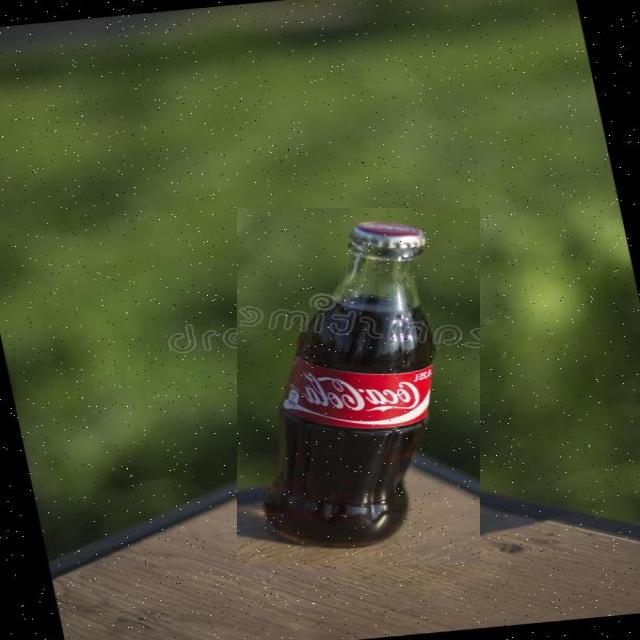coca-cola: (237, 208, 480, 565)
